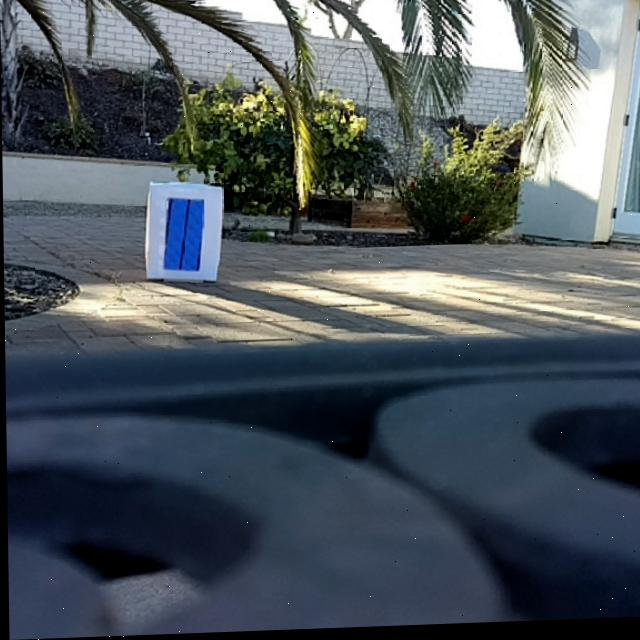led: (162, 200, 203, 273)
